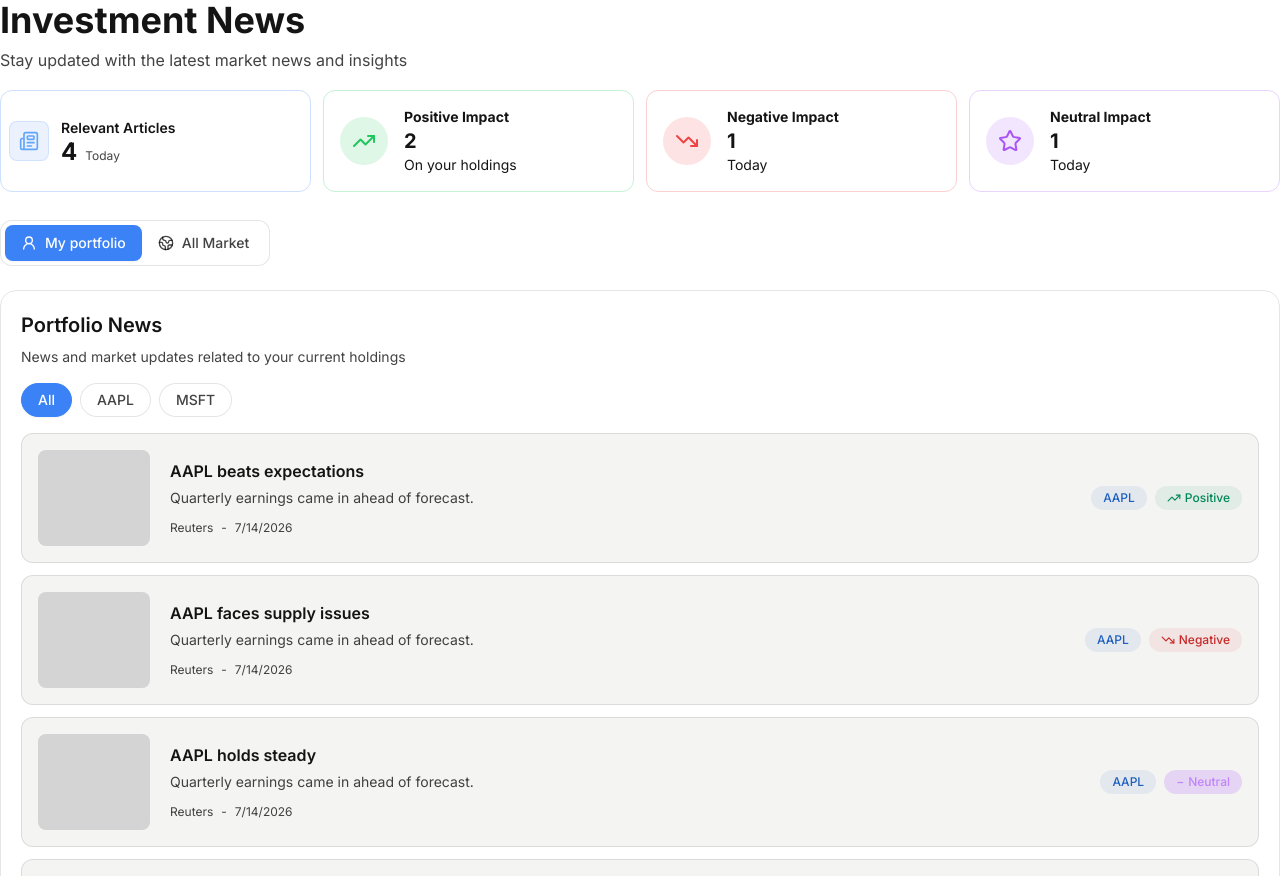
Test case: News page › returns to portfolio
The image size is (1280, 876).
Click the button "All Market". click: click(204, 243)
box: [142,225,265,261]
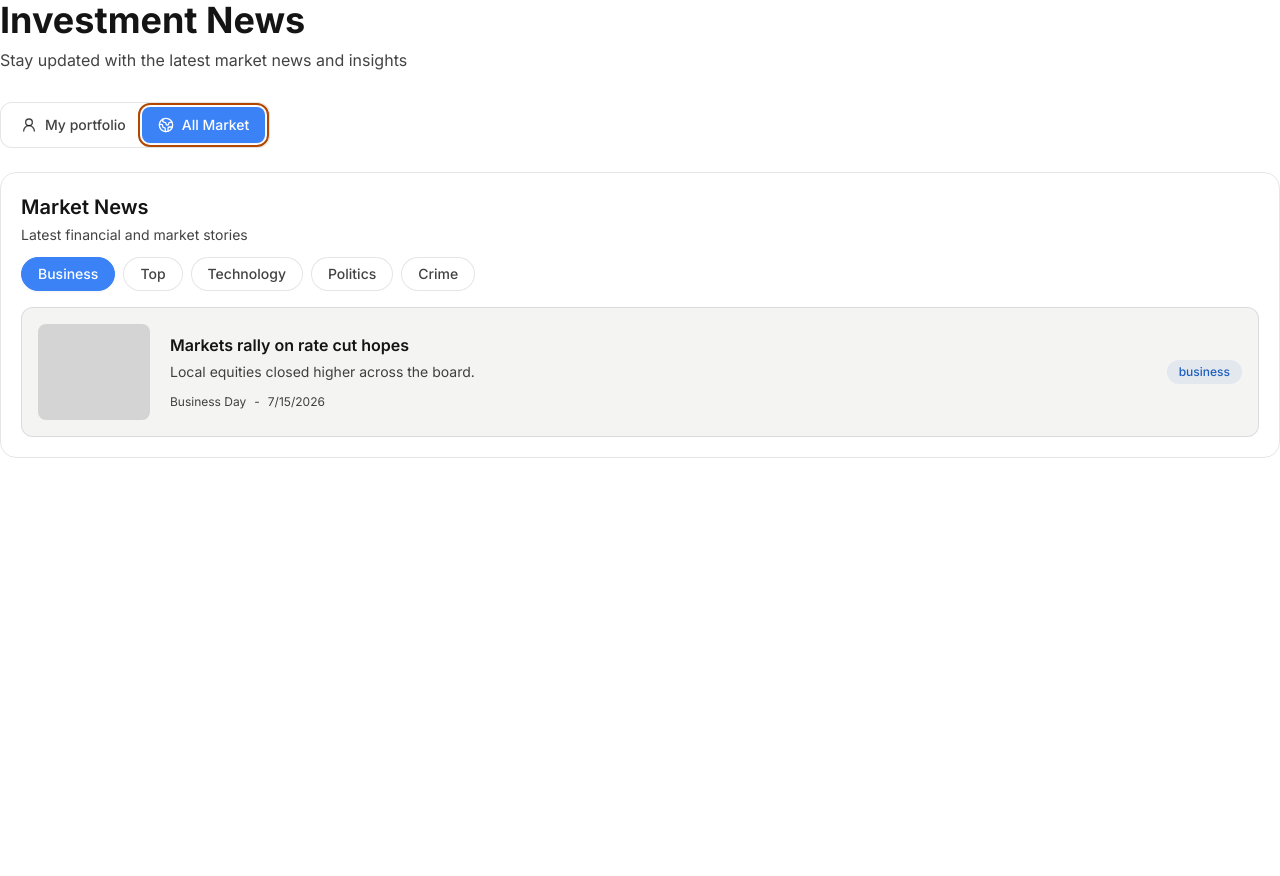
expect the heading "Market News" is shown: met, box [21,195,148,219]
Click the button "My portfolio". click: click(73, 125)
box: [5,107,142,143]
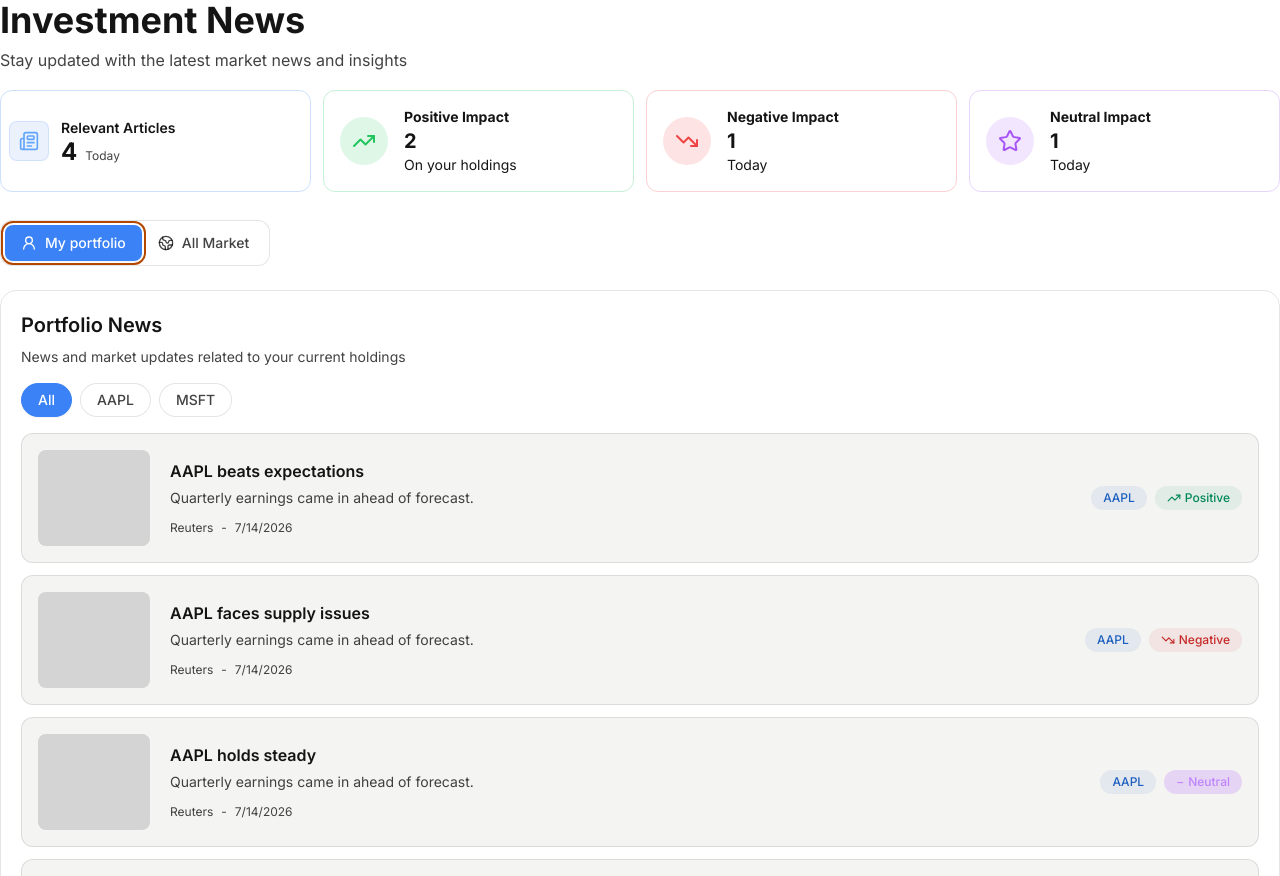
expect the heading "Portfolio News" is shown: met, box [21,313,162,337]
